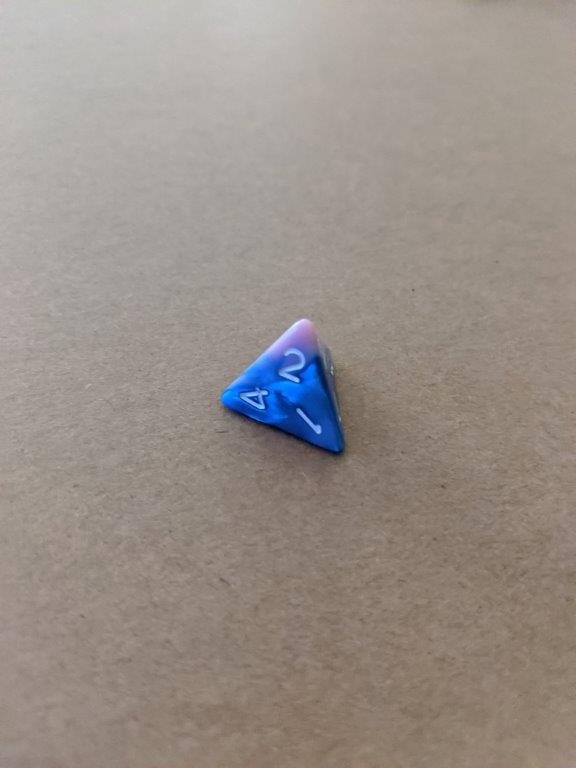d4-2: (214, 313, 353, 470)
